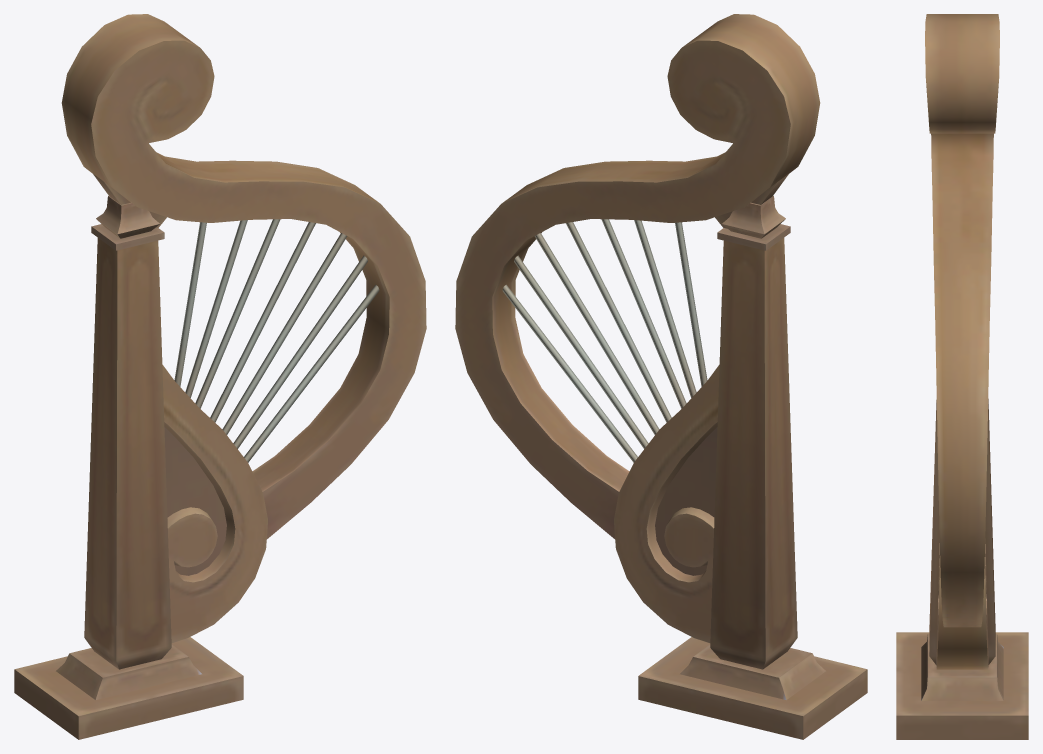
File: Homeworld_Interior_Md_Decoration_Xylophone_01_Vo.fbx
3 renders of one model, left to right at view 1: azimuth 30°, elevation 25°; view 2: azimuth 150°, elevation 25°; view 3: azimuth 270°, elevation 25°, orthographic. The views are drawn at different scales.
Parts seen in each view (by area): view 1: Area_Md_Prop_Fleur_Harp_21_Vo; view 2: Area_Md_Prop_Fleur_Harp_21_Vo; view 3: Area_Md_Prop_Fleur_Harp_21_Vo.
Part boxes in pixels (<box>): Area_Md_Prop_Fleur_Harp_21_Vo: <box>14,14,426,739</box>; Area_Md_Prop_Fleur_Harp_21_Vo: <box>455,14,867,739</box>; Area_Md_Prop_Fleur_Harp_21_Vo: <box>896,14,1028,739</box>.
Size of the model in its own units: 0.6674 by 1.15 by 0.2013.
